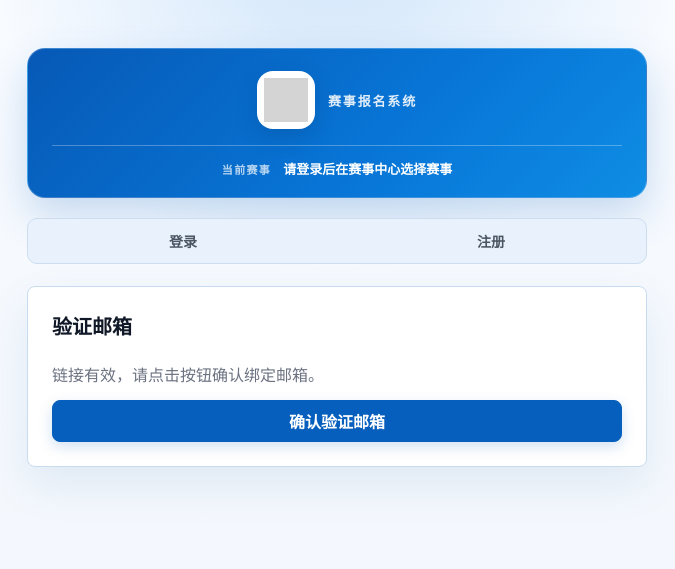
AuthPage › checks a verification link before explicit confirmation
Click the button with test id "confirm-email-verification" at coordinates (337, 421), box x1=52 y1=400 x2=622 y2=442
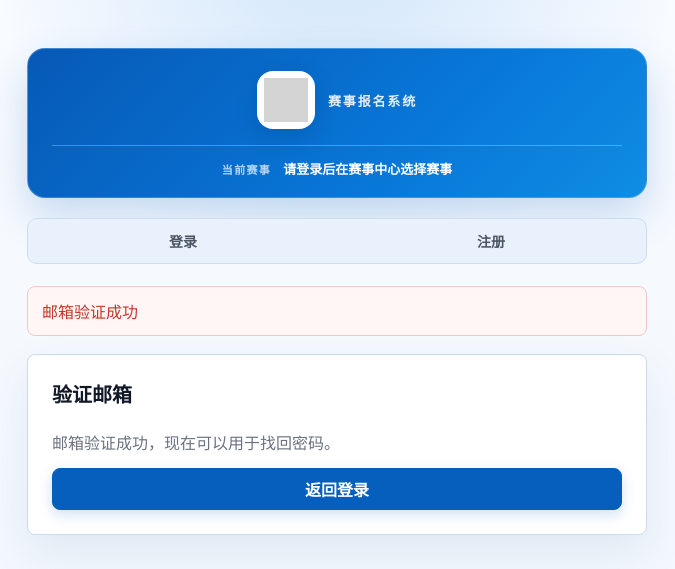
Expected: the text "邮箱验证成功" is shown, x1=27 y1=286 x2=647 y2=336
